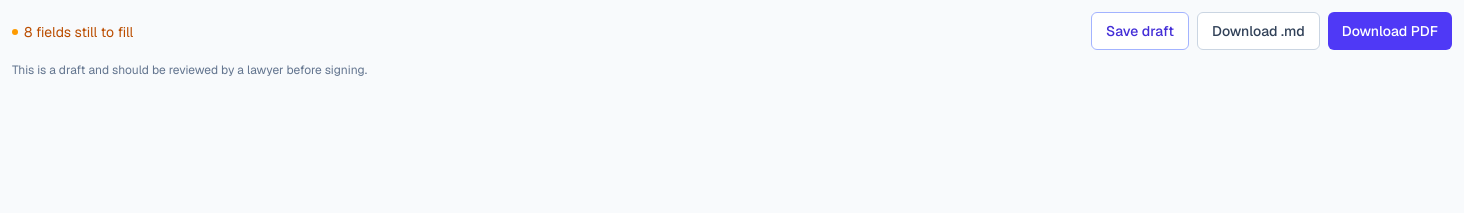
Test case: DownloadBar - completeness › lists what is missing on request
What coordinates should you click on to do the following:
click the button "8 fields still to fill"
I would click on:
 (73, 32)
Its box is [12,22,133,42].
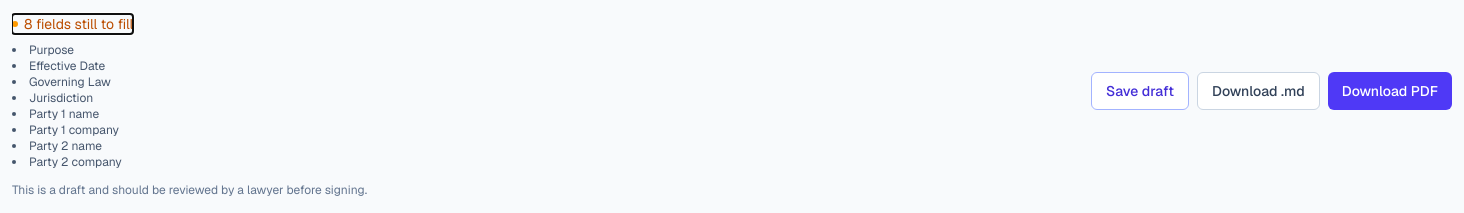
Now the button "8 fields still to fill" is expanded, box [12,14,133,34]
Now the list item "Purpose" is shown, box [29,42,74,58]
Now the list item "Party 2 company" is shown, box [29,154,122,170]
